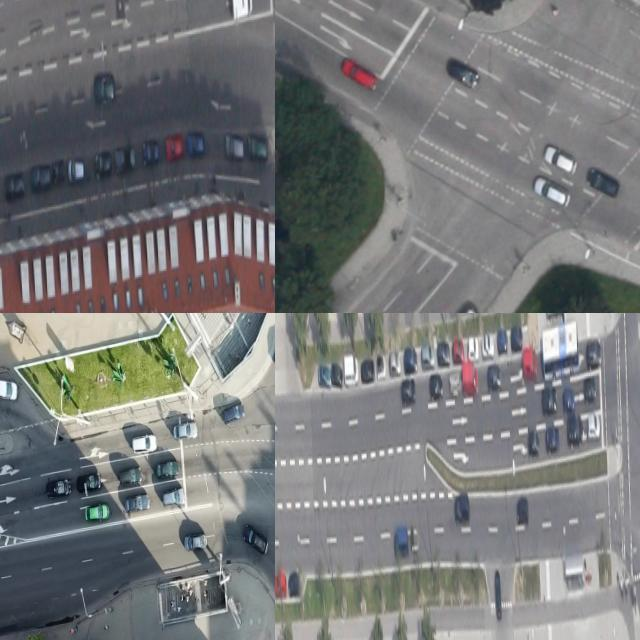UAI: (532, 172, 573, 210), (340, 56, 380, 92), (543, 143, 580, 177), (586, 165, 622, 199), (447, 57, 482, 91), (242, 523, 269, 554), (93, 72, 115, 103), (115, 144, 136, 174), (4, 171, 25, 201), (247, 133, 268, 161), (567, 413, 583, 449), (462, 362, 478, 397), (67, 155, 85, 185), (45, 478, 72, 498), (522, 346, 537, 382), (225, 133, 244, 161), (222, 402, 245, 425), (31, 165, 51, 191), (132, 434, 158, 454), (393, 525, 409, 557), (95, 150, 112, 180), (142, 138, 160, 166), (173, 420, 198, 440), (542, 385, 558, 416), (344, 353, 359, 386), (124, 493, 150, 512), (76, 473, 102, 492), (155, 459, 179, 479), (454, 493, 470, 523), (587, 337, 602, 369), (183, 533, 208, 552), (84, 503, 110, 521), (118, 466, 142, 485), (187, 132, 204, 158), (166, 136, 183, 162), (162, 487, 185, 506), (487, 363, 502, 392), (587, 410, 601, 440), (404, 345, 418, 375), (494, 569, 502, 621), (545, 426, 560, 453), (401, 378, 416, 405), (583, 375, 596, 404), (52, 158, 65, 185), (430, 373, 443, 400), (437, 341, 450, 368), (422, 343, 435, 369), (361, 359, 375, 383), (563, 386, 575, 413), (528, 430, 540, 457), (452, 336, 464, 363), (516, 497, 528, 524), (468, 333, 479, 362), (497, 327, 508, 356), (288, 571, 300, 597), (275, 570, 287, 596), (319, 362, 331, 388), (482, 332, 494, 358), (450, 371, 461, 398), (331, 361, 342, 388), (511, 324, 522, 351), (389, 351, 401, 375), (410, 527, 419, 553), (377, 354, 386, 378)
car: (541, 318, 579, 380)
harvester: (0, 374, 17, 401), (231, 0, 253, 20)
